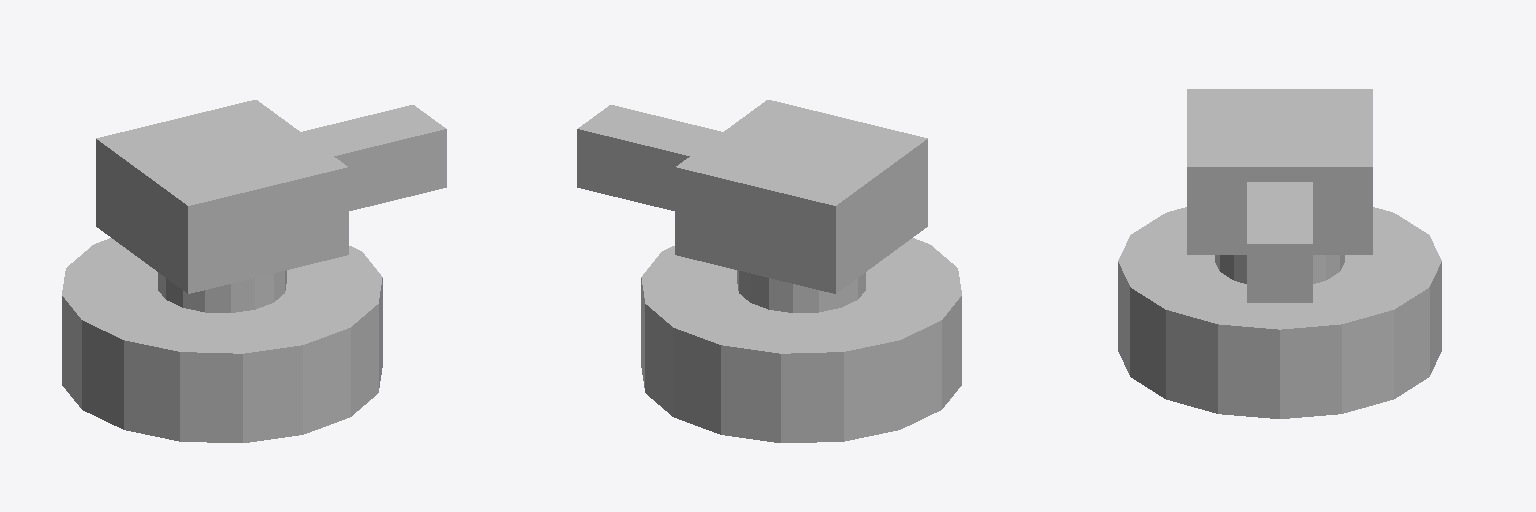
Rendered from turret.obj.
3 views of the same model, side by side, from view 1: azimuth 30°, elevation 25°; view 2: azimuth 150°, elevation 25°; view 3: azimuth 270°, elevation 25° (orthographic).
Parts seen in each view (by area): view 1: Turret; view 2: Turret; view 3: Turret.
Boxes of the visible parts, x1=… form: Turret: x1=62, y1=100, x2=446, y2=442; Turret: x1=577, y1=100, x2=961, y2=442; Turret: x1=1118, y1=89, x2=1441, y2=418.
Bounding box in the file's own units: 0.8686 × 0.5317 × 0.7.